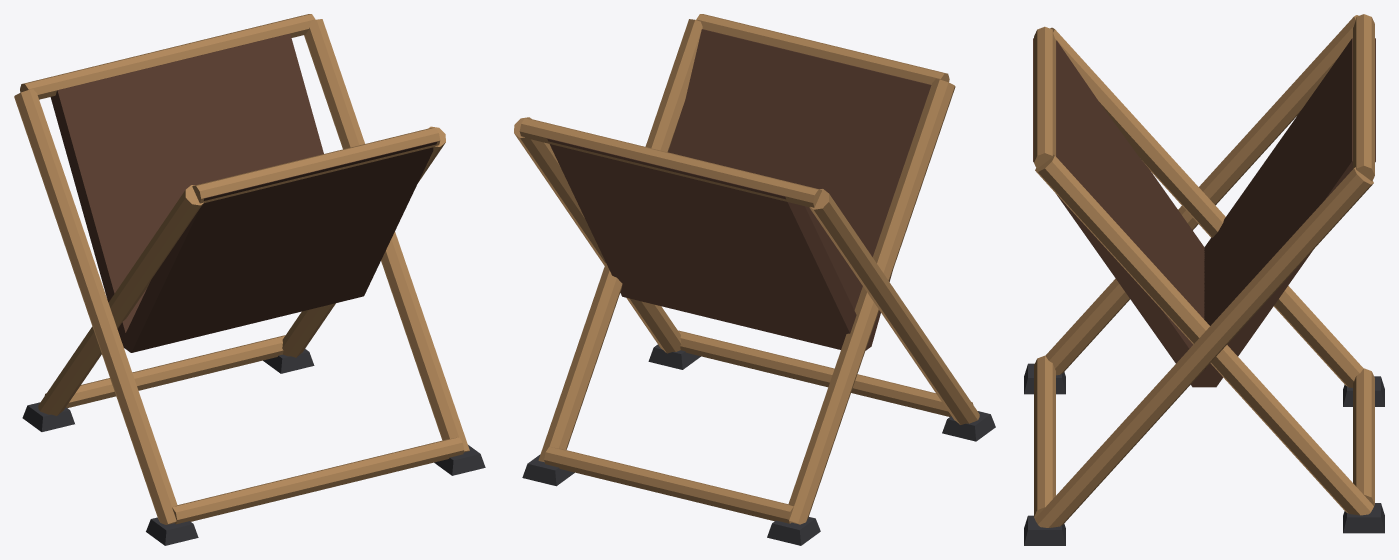
Rendered from FN_Rack_Magazine.glb.
3 renders of one model, left to right at view 1: azimuth 30°, elevation 25°; view 2: azimuth 150°, elevation 25°; view 3: azimuth 270°, elevation 25°, orthographic. The views are drawn at different scales.
Visible parts, largest first — view 1: FN_Rack_Magazine; view 2: FN_Rack_Magazine; view 3: FN_Rack_Magazine.
Boxes of the visible parts, box(x1,y1,x2,y2) form: FN_Rack_Magazine: box(14, 14, 485, 545); FN_Rack_Magazine: box(514, 14, 995, 545); FN_Rack_Magazine: box(1024, 14, 1384, 545).
Size of the model in its own units: 0.402 by 0.411 by 0.362.
Materials: 1 (1 with a texture image).
